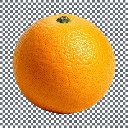orange: (13, 11, 119, 116)
